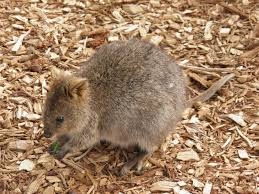quokka: (29, 35, 194, 170)
